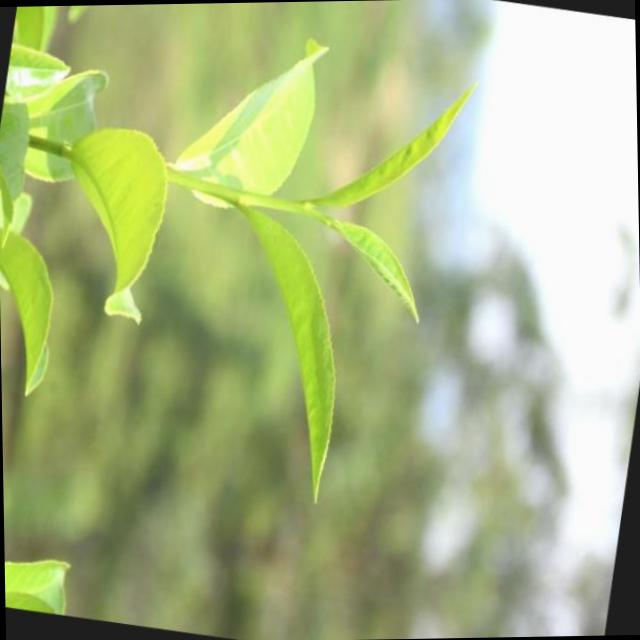Stem: (288, 198, 304, 211)
